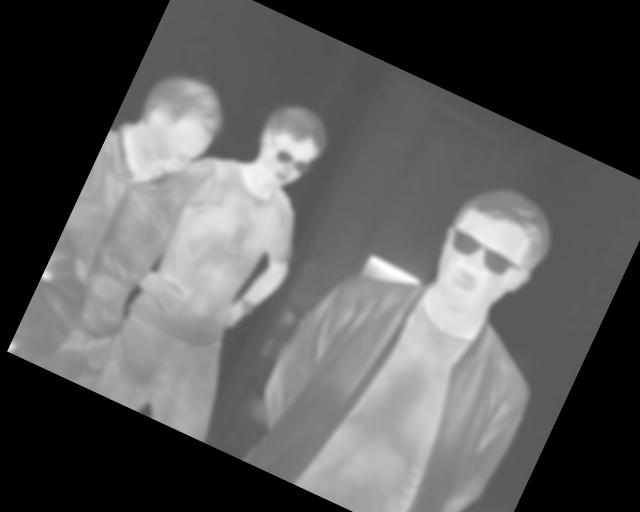face: (418, 169, 565, 333), (115, 58, 237, 196), (240, 92, 339, 198)
